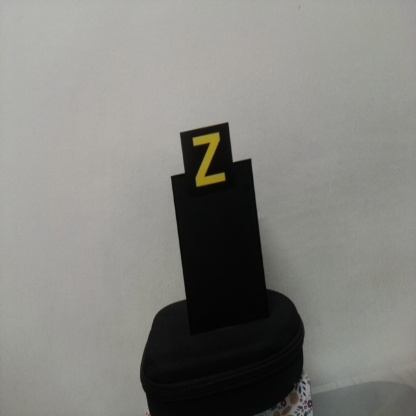id_15: (180, 132, 233, 196)
